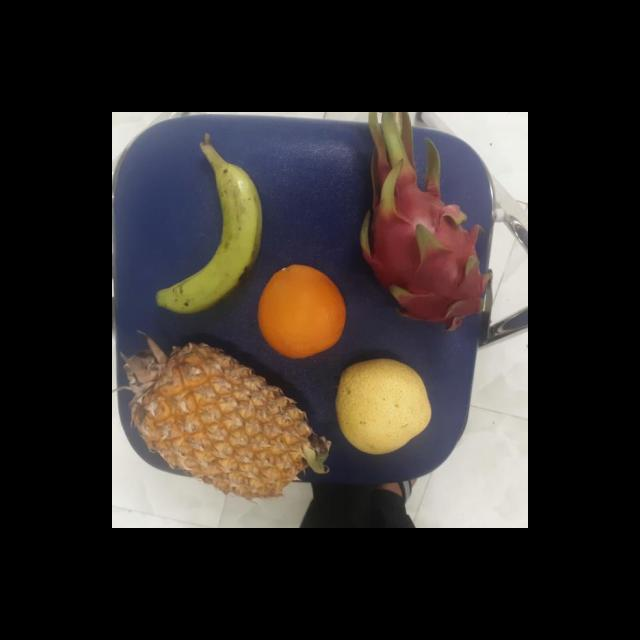banana: (156, 150, 260, 316)
orange: (255, 264, 348, 356)
pear: (328, 358, 436, 456)
pineapple: (115, 342, 319, 502)
pitaya: (352, 140, 491, 332)
